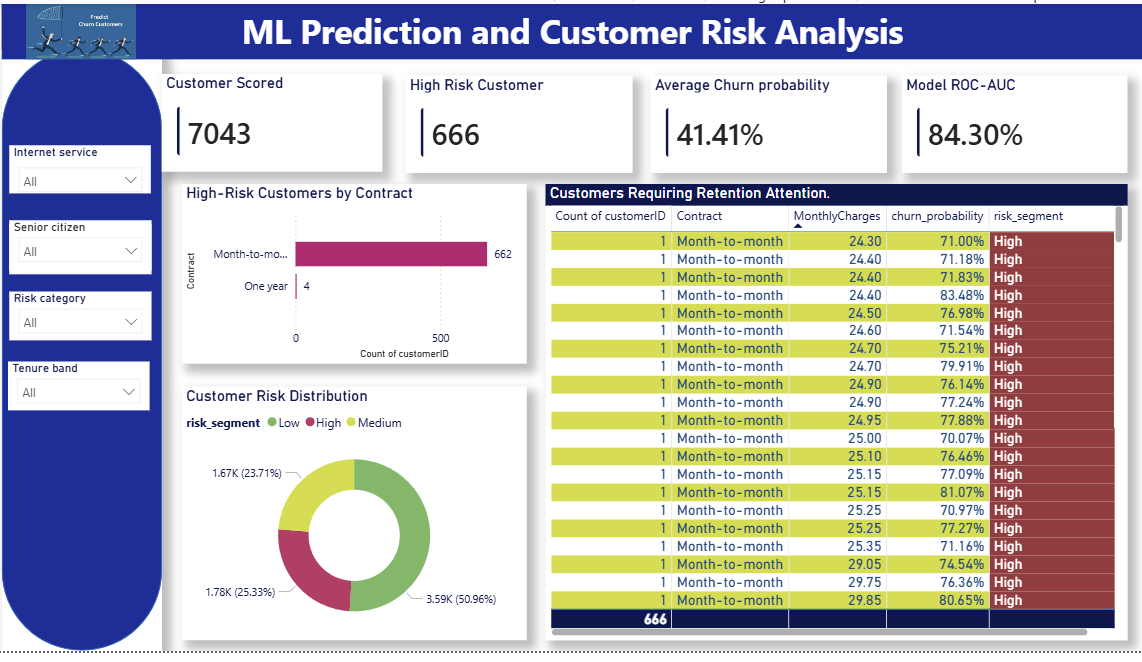

This screenshot's page, from the dashboard's own definition file:
{"tool":"powerbi","page":{"name":"ML Prediction and Customer Risk Analysis","canvas":[1280,720],"ordinal":3},"visuals":[{"type":"textbox","box":[9.6,0,1270.7,50.8],"z":0},{"type":"shape","box":[9.6,50.8,178.4,669.6],"z":1000},{"type":"textbox","box":[9.6,0,1270.7,61.7],"z":2000},{"type":"cardVisual","title":"Customer Scored","fields":{"Data":["Count(Churn_Dataset.customerID)"]},"box":[188,78.2,245.6,108.4],"z":3000},{"type":"cardVisual","title":"High Risk Customer","fields":{"Data":["Churn_Dataset.High Risk Customers"]},"box":[459.7,79.6,252.5,108.4],"z":4000},{"type":"cardVisual","title":"Average Churn probability","fields":{"Data":["Churn_Dataset.Average Churn Probability"]},"box":[731.4,79.6,263.5,108.4],"z":6000},{"type":"cardVisual","title":"Model ROC-AUC","fields":{"Data":["Sum(Model metrics.ROC_AUC)"]},"box":[1011.3,79.6,251.1,108.4],"z":7000},{"type":"clusteredBarChart","title":"High-Risk Customers by Contract","fields":{"Category":["Churn_Dataset.Contract"],"Y":["Count(Churn_Dataset.customerID)"]},"box":[209.9,200.3,384.2,200.3],"z":8000},{"type":"slicer","title":"Internet service","fields":{"Values":["Churn_Dataset.InternetService"]},"box":[17.8,157.8,157.8,53.5],"z":9000},{"type":"slicer","title":"Contract","fields":{"Values":["Churn_Dataset.Contract"]},"box":[17.4,244.2,158.1,55.8],"z":10000},{"type":"donutChart","title":"Customer Risk Distribution","fields":{"Y":["CountNonNull(Churn_Dataset.customerID)"],"Category":["Churn_Dataset.risk_segment"]},"box":[209.9,425.4,384.2,282.7],"z":11000},{"type":"tableEx","title":"Customers Requiring Retention Attention.","fields":{"Values":["Churn_Dataset.customerID","Churn_Dataset.Contract","Churn_Dataset.MonthlyCharges","Churn_Dataset.churn_probability","Churn_Dataset.risk_segment"]},"box":[615.1,200,647.7,508.1],"z":12000},{"type":"slicer","title":"Risk category","fields":{"Values":["Churn_Dataset.risk_segment"]},"box":[17.4,319.8,158.1,54.7],"z":13000},{"type":"image","box":[32.6,0,131.4,61.6],"z":14000},{"type":"slicer","title":"Senior citizen","fields":{"Values":["Churn_Dataset.SeniorCitizen"]},"box":[17.4,240.7,158.1,55.8],"z":14001},{"type":"slicer","title":"Tenure band","fields":{"Values":["Churn_Dataset.tenure_band"]},"box":[16.7,397.9,157.2,54.3],"z":14002}]}

Visuals, with their boxes in screenshot pixels (x1, y1, x2, y2), scaled from the page's 1280x720 canvas onto the 1142x662 screenshot:
textbox: l=9, t=0, r=1141, b=47
shape: l=9, t=47, r=168, b=661
textbox: l=9, t=0, r=1141, b=57
"Customer Scored" cardVisual: l=168, t=72, r=387, b=172
"High Risk Customer" cardVisual: l=410, t=73, r=635, b=173
"Average Churn probability" cardVisual: l=653, t=73, r=888, b=173
"Model ROC-AUC" cardVisual: l=902, t=73, r=1126, b=173
"High-Risk Customers by Contract" clusteredBarChart: l=187, t=184, r=530, b=368
"Internet service" slicer: l=16, t=145, r=157, b=194
"Contract" slicer: l=16, t=225, r=157, b=276
"Customer Risk Distribution" donutChart: l=187, t=391, r=530, b=651
"Customers Requiring Retention Attention." tableEx: l=549, t=184, r=1127, b=651
"Risk category" slicer: l=16, t=294, r=157, b=344
image: l=29, t=0, r=146, b=57
"Senior citizen" slicer: l=16, t=221, r=157, b=273
"Tenure band" slicer: l=15, t=366, r=155, b=416
